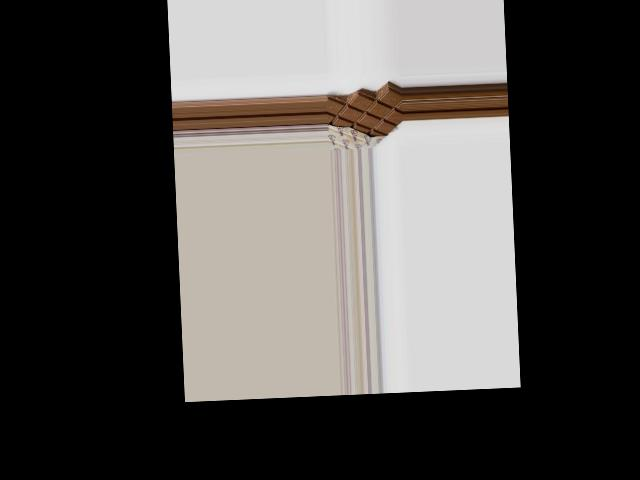chocolate: (325, 87, 402, 149)
